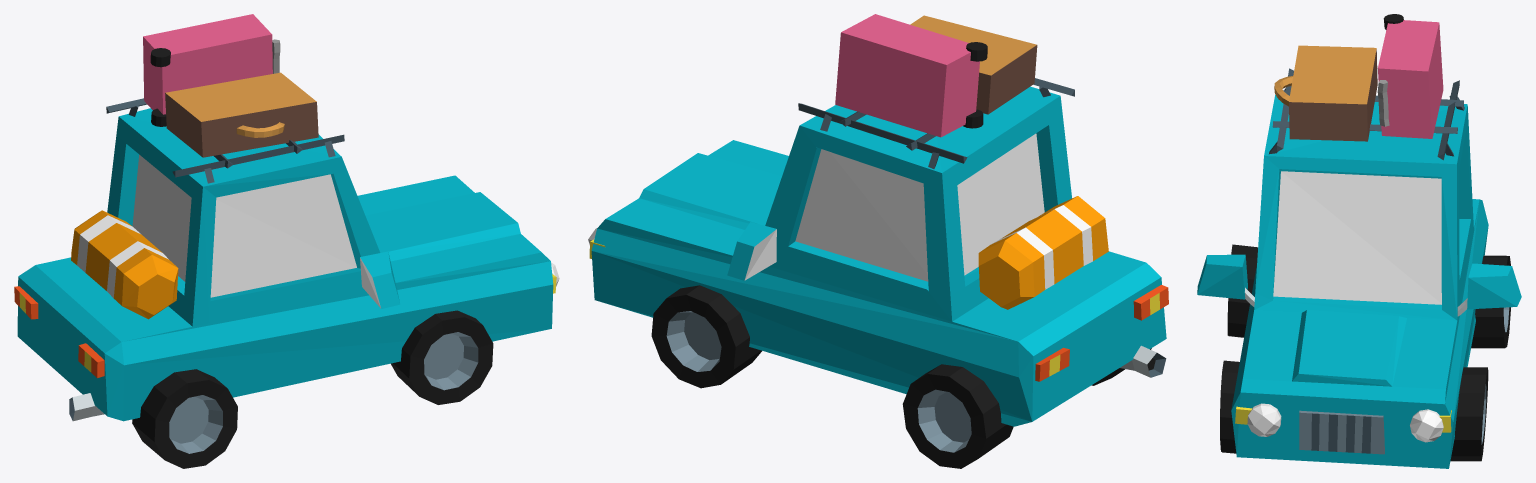
Rendered from scene_YOaaEE71gk.glb.
The picture shows the model from 3 angles, left to right: view 1: azimuth 30°, elevation 25°; view 2: azimuth 150°, elevation 25°; view 3: azimuth 270°, elevation 25°; orthographic projection. The views are drawn at different scales.
Parts seen in each view (by area): view 1: group2065763654, group1543441883, group1394282739, group998794145, group133641610, group334064380, group111731410, group533966591; view 2: group2065763654, group1394282739, group133641610, group256105535, group1657423856, group1543441883, group111731410, group779376101; view 3: group2065763654, group1543441883, group1394282739, group1657423856, group779376101, group533966591, group256105535, group111731410, group998794145, group334064380.
Boxes of the visible parts, bbox=[...] form: group2065763654: bbox=[14, 108, 559, 421]; group1543441883: bbox=[165, 72, 318, 157]; group1394282739: bbox=[143, 14, 280, 126]; group998794145: bbox=[132, 369, 237, 468]; group133641610: bbox=[71, 210, 178, 319]; group334064380: bbox=[391, 310, 493, 404]; group111731410: bbox=[106, 98, 344, 183]; group533966591: bbox=[360, 251, 400, 308]; group2065763654: bbox=[588, 86, 1168, 426]; group1394282739: bbox=[835, 14, 987, 137]; group133641610: bbox=[978, 196, 1108, 309]; group256105535: bbox=[902, 364, 1013, 468]; group1657423856: bbox=[651, 285, 761, 388]; group1543441883: bbox=[910, 15, 1037, 114]; group111731410: bbox=[798, 78, 1074, 168]; group779376101: bbox=[727, 222, 776, 280]; group2065763654: bbox=[1231, 94, 1488, 468]; group1543441883: bbox=[1274, 45, 1377, 141]; group1394282739: bbox=[1377, 14, 1443, 138]; group1657423856: bbox=[1450, 367, 1488, 461]; group779376101: bbox=[1457, 263, 1521, 316]; group533966591: bbox=[1197, 254, 1254, 306]; group256105535: bbox=[1471, 255, 1510, 348]; group111731410: bbox=[1269, 68, 1464, 160]; group998794145: bbox=[1227, 244, 1257, 337]; group334064380: bbox=[1220, 360, 1239, 453].
Size of the model in its own units: 0.6358 by 0.4427 by 0.3821.
